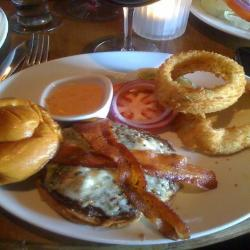bread: (1, 96, 64, 192)
burger: (44, 122, 189, 226)
